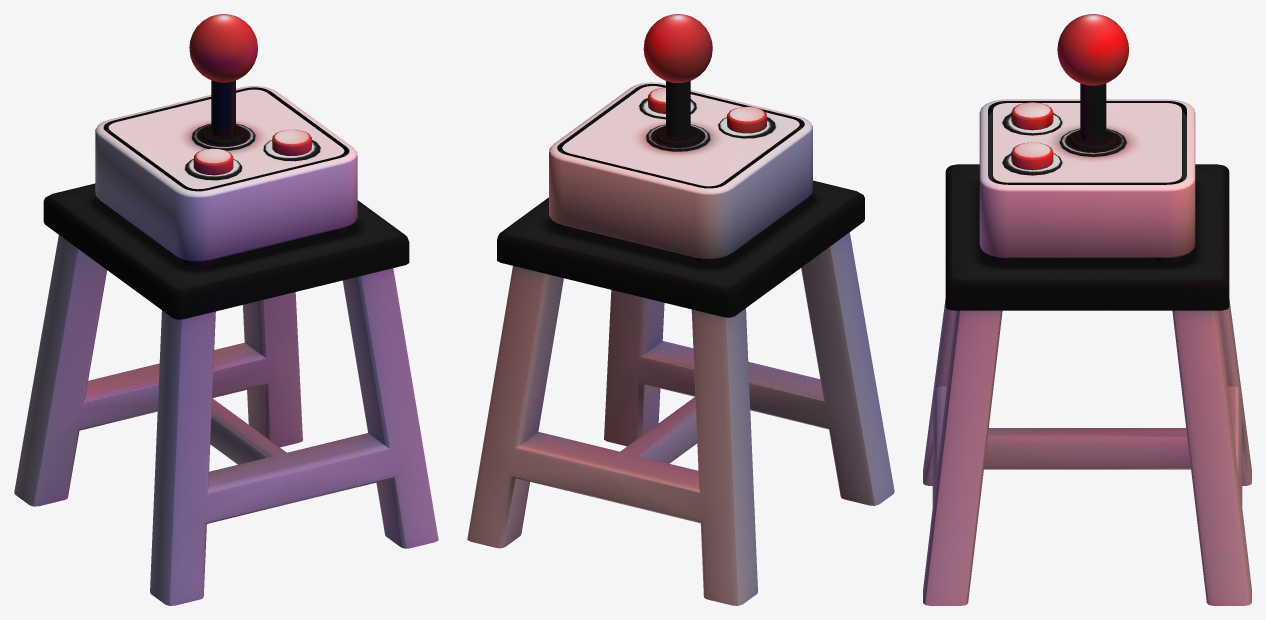
The model's file is estebankito.gltf.
The picture shows the model from 3 angles, left to right: view 1: azimuth 30°, elevation 25°; view 2: azimuth 150°, elevation 25°; view 3: azimuth 270°, elevation 25°; orthographic projection. The views are drawn at different scales.
Parts seen in each view (by area): view 1: Banco, Joystick; view 2: Banco, Joystick; view 3: Banco, Joystick.
Boxes of the visible parts, x1,y1,x2,y2 form: Banco: (14, 183, 438, 605); Joystick: (95, 14, 357, 266); Banco: (467, 180, 894, 605); Joystick: (549, 14, 812, 264); Banco: (923, 164, 1251, 605); Joystick: (979, 14, 1195, 263).
Size of the model in its own units: 2.32 by 4.04 by 2.32.
7 materials, 7 textured.
